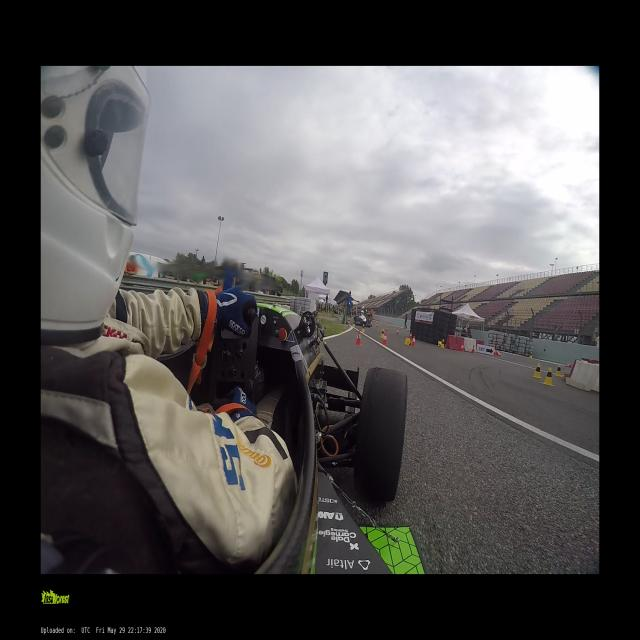orange_cone: (356, 331, 361, 345), (383, 334, 387, 346), (461, 342, 464, 352), (412, 336, 415, 346), (496, 350, 501, 355), (472, 345, 474, 353), (568, 363, 572, 367), (396, 329, 398, 335), (386, 327, 388, 331)
yellow_cone: (543, 368, 554, 386), (534, 363, 542, 378), (555, 364, 562, 376), (405, 338, 412, 346), (381, 328, 384, 338), (442, 339, 444, 348), (362, 324, 364, 332), (530, 352, 532, 358), (348, 318, 350, 324), (353, 321, 354, 327)
